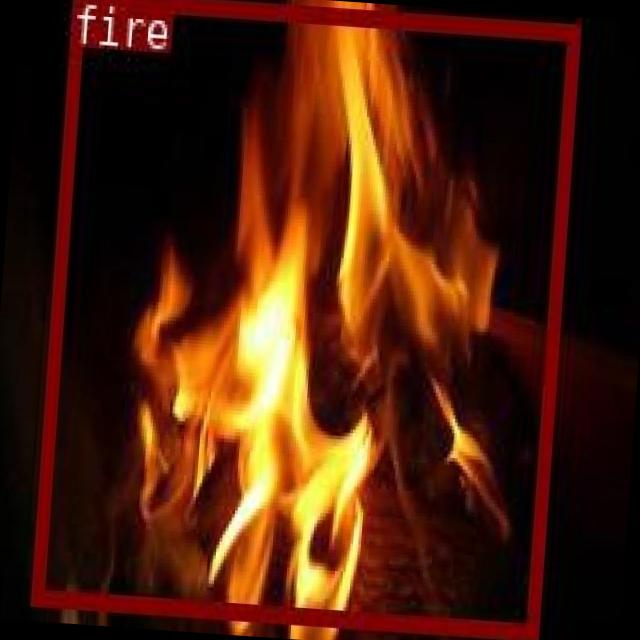fire: (29, 0, 578, 635)
